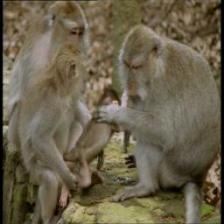monkey: (119, 48, 152, 114), (58, 10, 94, 52), (76, 61, 93, 106)
